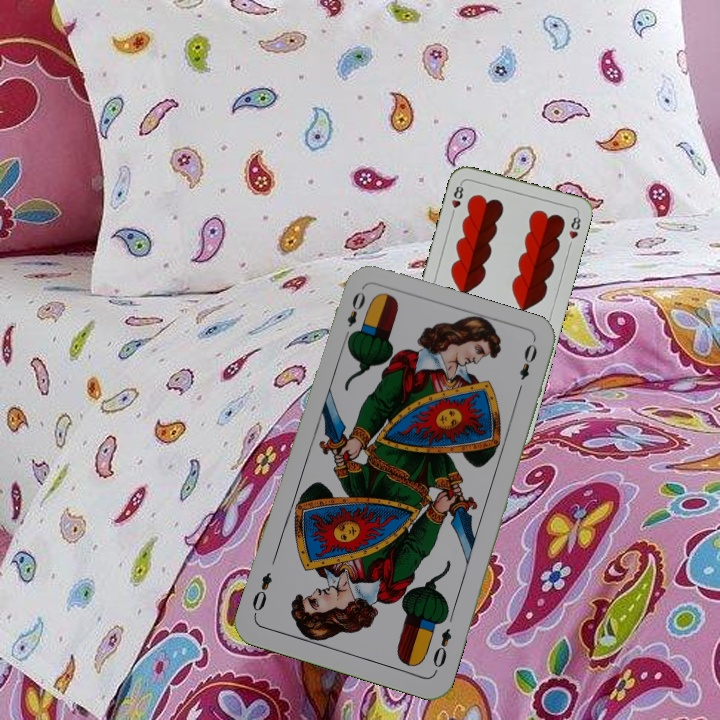EO: (340, 287, 368, 344), (428, 624, 455, 671)
H8: (447, 179, 466, 219)
